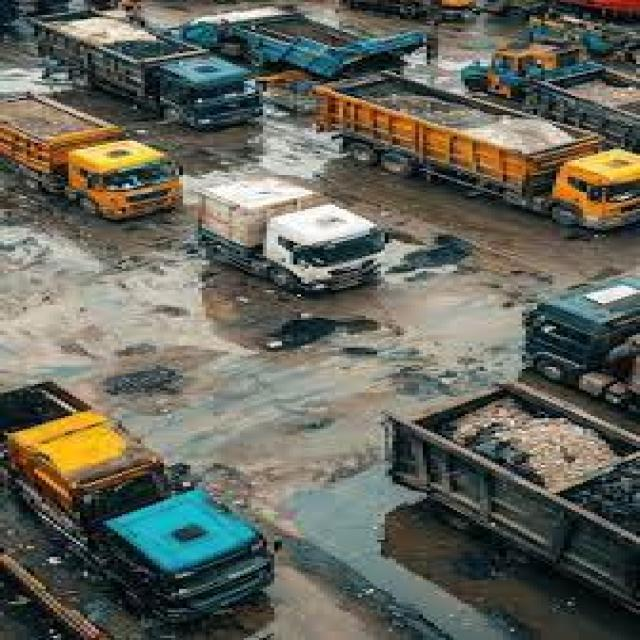uncovered: (319, 74, 633, 219), (412, 347, 629, 491), (0, 106, 162, 216), (37, 1, 226, 94), (196, 176, 344, 282)
